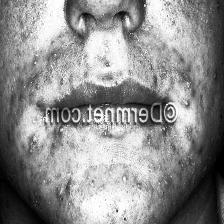Non-Cancerous Skin Condition: (46, 164, 148, 224), (185, 98, 189, 106), (186, 80, 190, 88), (214, 74, 218, 80)
